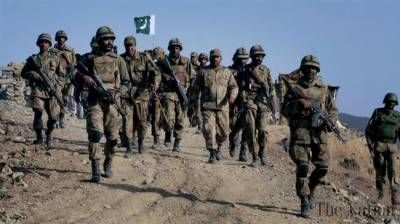uniform: (279, 46, 335, 208), (79, 33, 118, 184), (114, 40, 153, 158), (241, 44, 277, 163), (153, 38, 191, 148), (195, 46, 232, 155), (369, 73, 399, 204), (25, 34, 60, 141), (54, 29, 75, 126)
